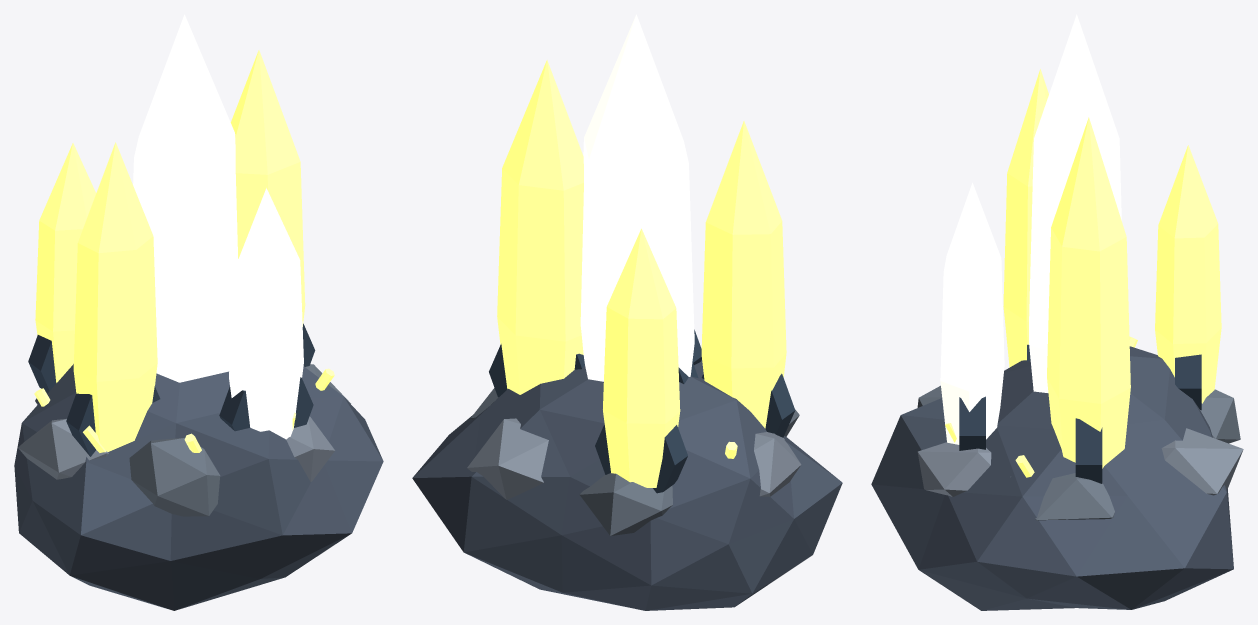
File: ore_Promerium.glb
The picture shows the model from 3 angles, left to right: view 1: azimuth 30°, elevation 25°; view 2: azimuth 150°, elevation 25°; view 3: azimuth 270°, elevation 25°; orthographic projection. The views are drawn at different scales.
Parts seen in each view (by area): view 1: root_fractured_asteroid, crystal_main_0, crystal_main_1, crystal_main_3, crystal_main_2, crystal_main_4, rock_armor_2, rock_armor_3, rock_armor_1, crystal_socket_3, crystal_socket_1, crystal_socket_4; view 2: root_fractured_asteroid, crystal_main_0, crystal_main_2, crystal_main_1, crystal_main_4, rock_armor_5, rock_armor_4, rock_armor_3, crystal_socket_4, crystal_socket_1, crystal_socket_2; view 3: root_fractured_asteroid, crystal_main_2, crystal_main_0, crystal_main_3, crystal_main_4, crystal_main_1, rock_armor_5, rock_armor_1, rock_armor_0, crystal_socket_2, rock_armor_4, crystal_socket_3 (+1 smaller).
Boxes of the visible parts, <box> form: root_fractured_asteroid: <box>14,364,383,610</box>; crystal_main_0: <box>133,14,238,382</box>; crystal_main_1: <box>73,142,157,451</box>; crystal_main_3: <box>229,188,303,439</box>; crystal_main_2: <box>230,50,305,326</box>; crystal_main_4: <box>35,143,96,382</box>; rock_armor_2: <box>129,437,220,516</box>; rock_armor_3: <box>18,418,108,479</box>; rock_armor_1: <box>286,416,335,481</box>; crystal_socket_3: <box>219,377,313,431</box>; crystal_socket_1: <box>66,386,160,456</box>; crystal_socket_4: <box>28,335,56,393</box>; root_fractured_asteroid: <box>412,360,842,610</box>; crystal_main_0: <box>580,14,694,381</box>; crystal_main_2: <box>497,60,583,394</box>; crystal_main_1: <box>701,121,786,428</box>; crystal_main_4: <box>603,228,680,487</box>; rock_armor_5: <box>467,418,548,499</box>; rock_armor_4: <box>580,473,672,535</box>; rock_armor_3: <box>754,432,801,496</box>; crystal_socket_4: <box>595,424,687,493</box>; crystal_socket_1: <box>701,373,795,437</box>; crystal_socket_2: <box>489,344,584,397</box>; root_fractured_asteroid: <box>871,346,1233,610</box>; crystal_main_2: <box>1047,117,1130,468</box>; crystal_main_0: <box>1029,14,1121,392</box>; crystal_main_3: <box>940,182,1004,444</box>; crystal_main_4: <box>1155,145,1221,403</box>; crystal_main_1: <box>1003,69,1048,367</box>; rock_armor_5: <box>1161,428,1243,495</box>; rock_armor_1: <box>917,442,991,496</box>; rock_armor_0: <box>1010,473,1114,520</box>; crystal_socket_2: <box>1075,418,1102,483</box>; rock_armor_4: <box>1200,389,1240,443</box>; crystal_socket_3: <box>959,396,985,450</box>.
Size of the model in its own units: 1.66 by 2.61 by 1.54.
